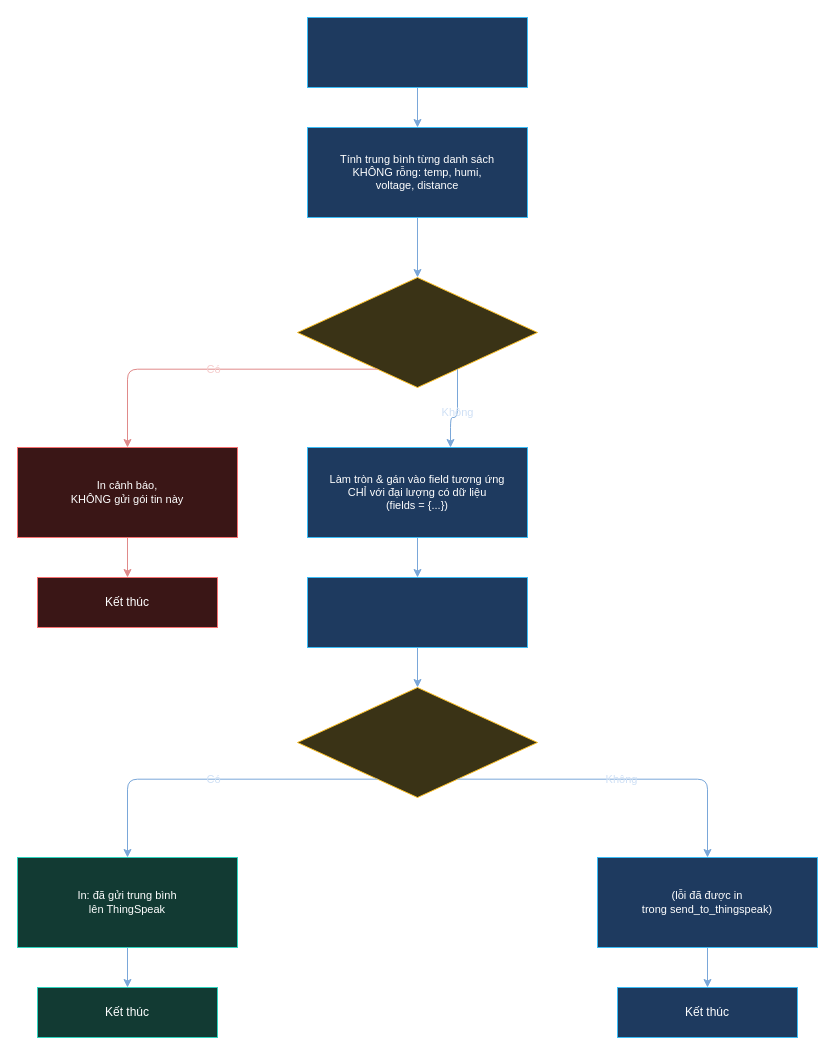
This 835x1055 diagram has some shape labels left out. The box of each missing label's shape, as (x1, y1, x2, y2) in pixels:
Bắt đầu (window = 4 danh sách giá trị trong 20 giây vừa qua): (306, 16, 528, 88)
Cả 4 danh sách đều rỗng?: (296, 276, 538, 388)
Gửi thành công?: (296, 686, 538, 798)
send_to_thingspeak(**fields): (306, 576, 528, 648)
